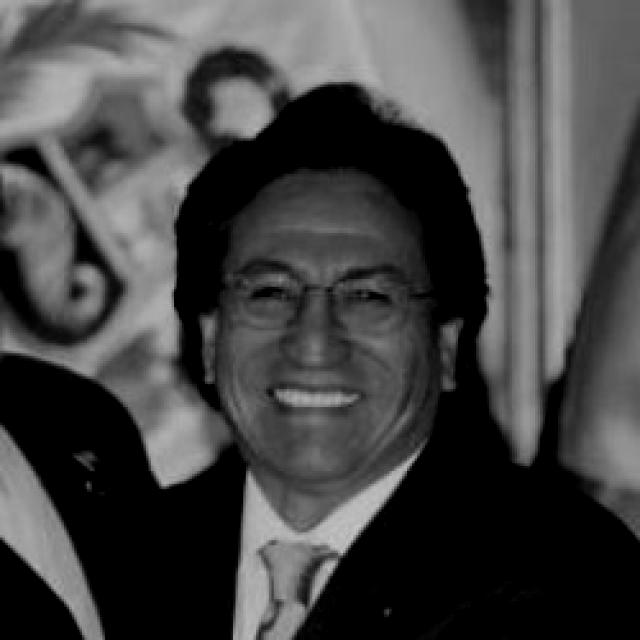real: (180, 120, 474, 502), (229, 277, 400, 325)
